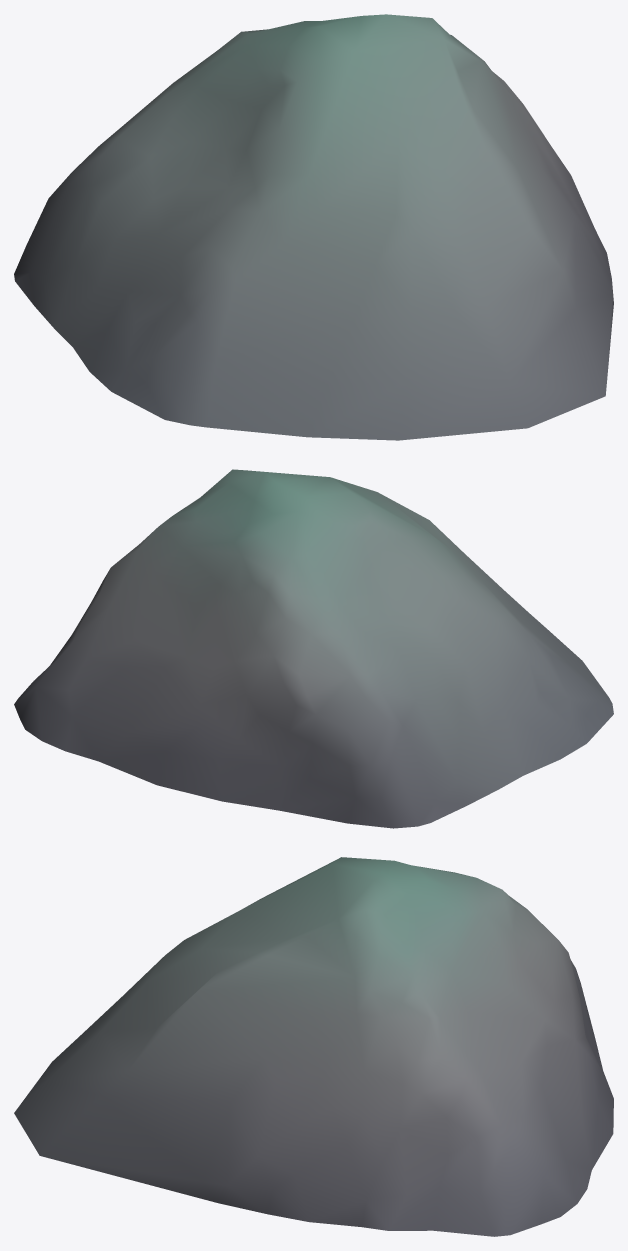
The model's file is S_BoulderMedium_Moss_VarB.fbx.
The picture shows the model from 3 angles, top to bottom: view 1: azimuth 30°, elevation 25°; view 2: azimuth 150°, elevation 25°; view 3: azimuth 270°, elevation 25°; orthographic projection. The views are drawn at different scales.
Parts seen in each view (by area): view 1: S_BoulderMedium_Moss_VarB_GEO; view 2: S_BoulderMedium_Moss_VarB_GEO; view 3: S_BoulderMedium_Moss_VarB_GEO.
Part boxes in pixels (x1=…): S_BoulderMedium_Moss_VarB_GEO: x1=14, y1=14, x2=613, y2=440; S_BoulderMedium_Moss_VarB_GEO: x1=14, y1=469, x2=613, y2=828; S_BoulderMedium_Moss_VarB_GEO: x1=14, y1=857, x2=613, y2=1236.
Size of the model in its own units: 4.87 by 2.29 by 4.89.
